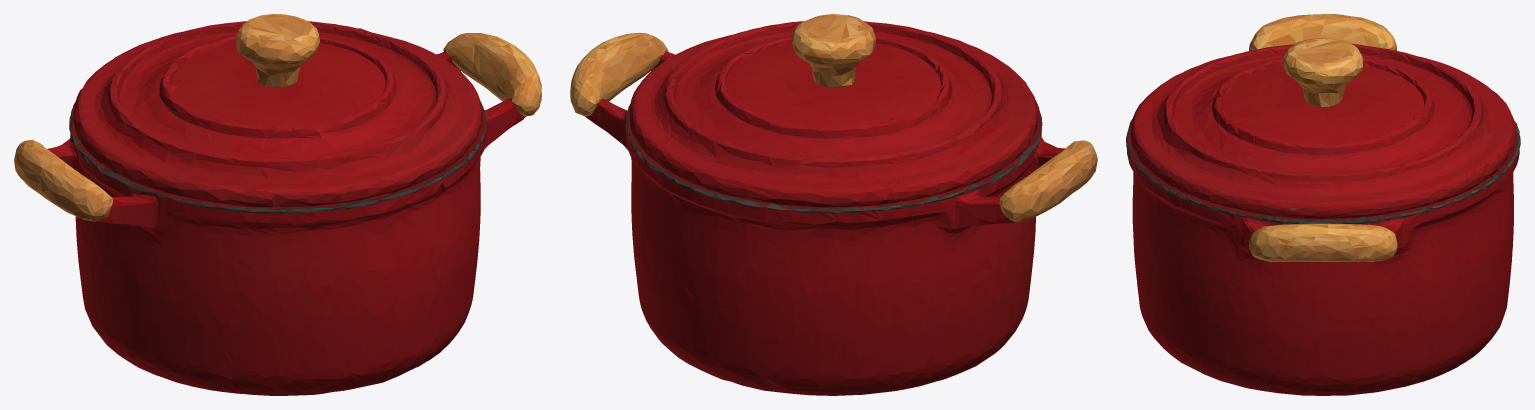
Rendered from pot_lid.glb.
3 renders of one model, left to right at view 1: azimuth 30°, elevation 25°; view 2: azimuth 150°, elevation 25°; view 3: azimuth 270°, elevation 25°, orthographic. The views are drawn at different scales.
Visible parts, largest first — view 1: geometry_0; view 2: geometry_0; view 3: geometry_0.
Part boxes in pixels (x1,y1,x2,y2): geometry_0: (14, 14, 541, 395); geometry_0: (570, 14, 1097, 395); geometry_0: (1126, 14, 1520, 395).
Size of the model in its own units: 0.24 by 0.1396 by 0.1793.
1 material, 1 textured.
